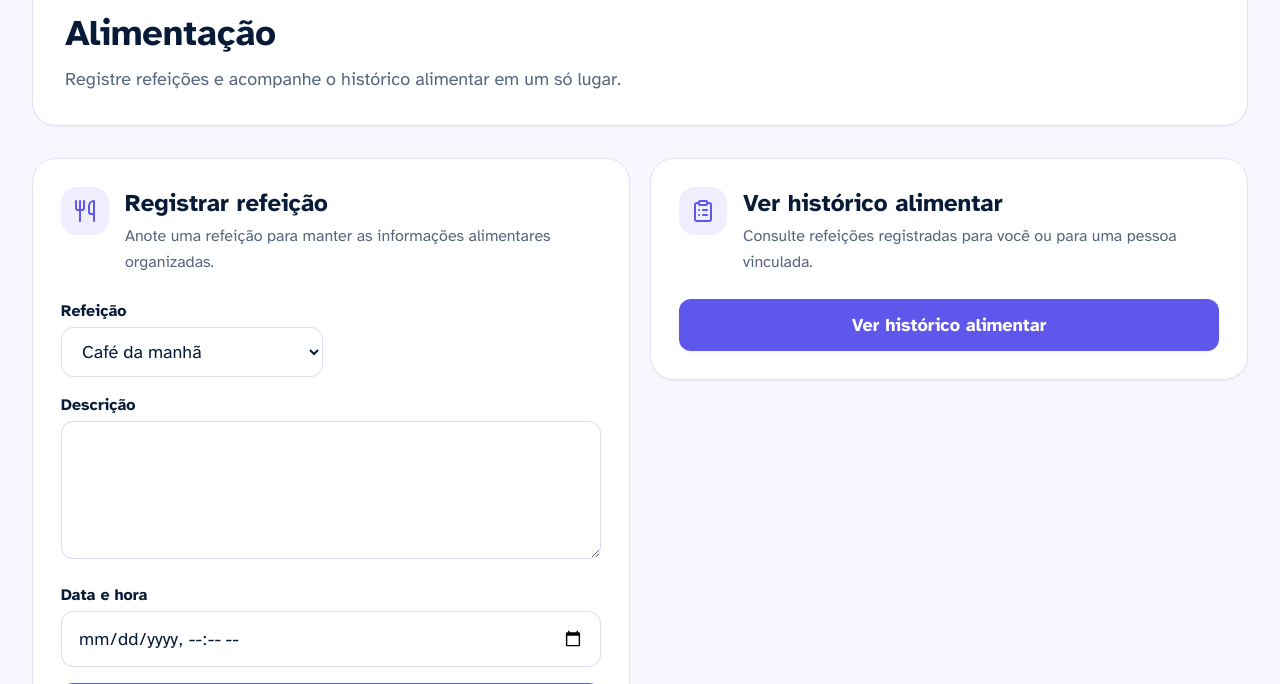
Test: Alimentacao (item 7.1) › perfil idoso (sem seletor): POST /alimentacao, Authorization e Content-Type JSON, corpo exato com data via toISOString
The width and height of the screenshot is (1280, 684).
Type "descricao-falsa-sigilosa" into the text box labelled "Descrição" at (331, 490), box 61,421 -> 601,559
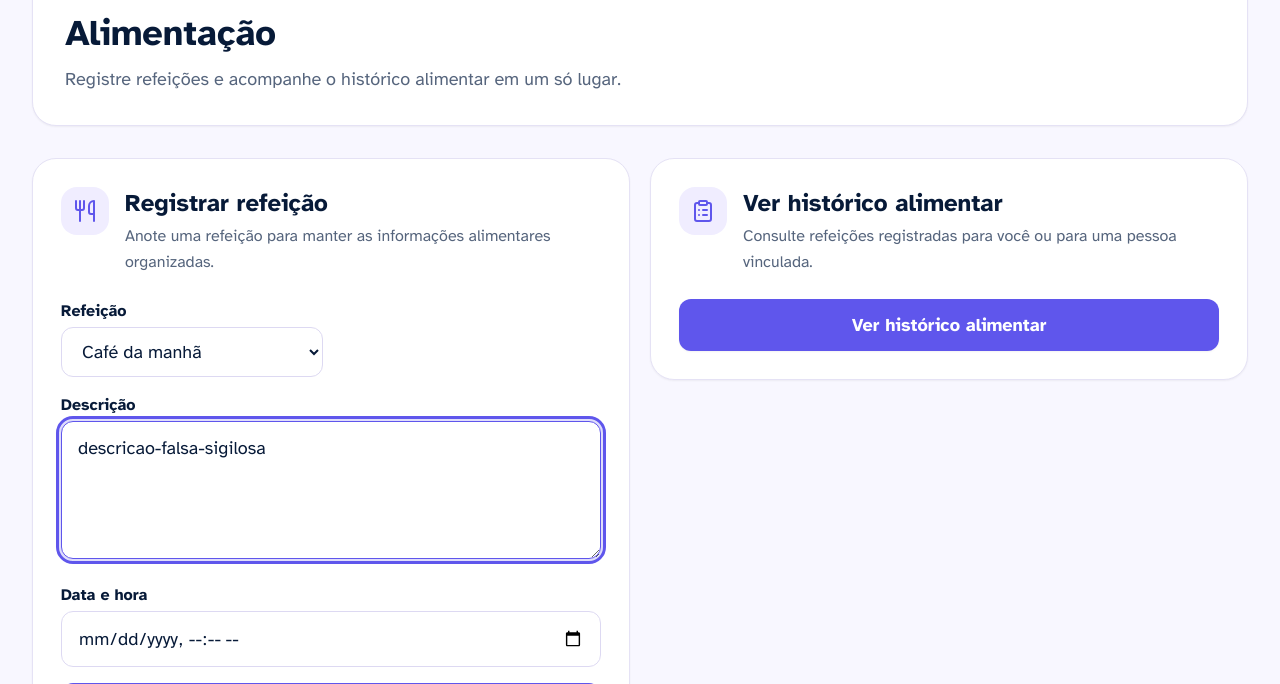
Type "2026-10-10T12:30" into the field labelled "Data e hora" at (331, 639), box 61,611 -> 601,667
(page scrolled)
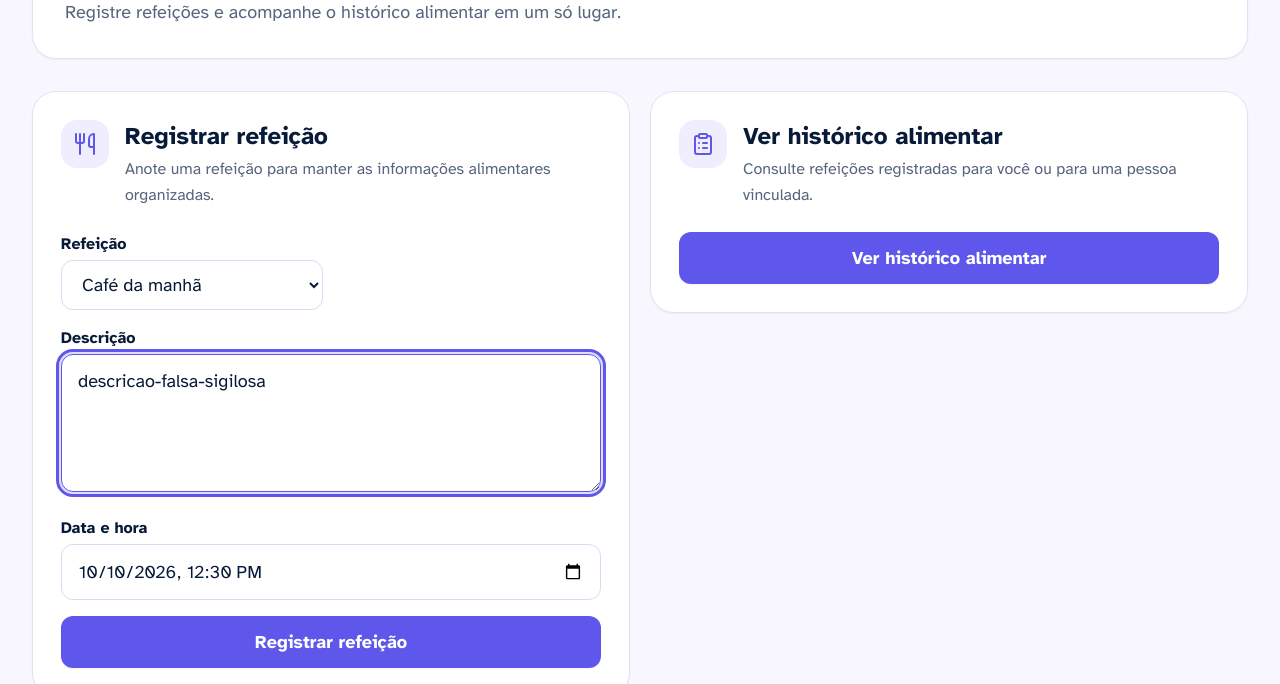
Click the button "Registrar refeição" at (331, 642), box 61,616 -> 601,668
(page scrolled)
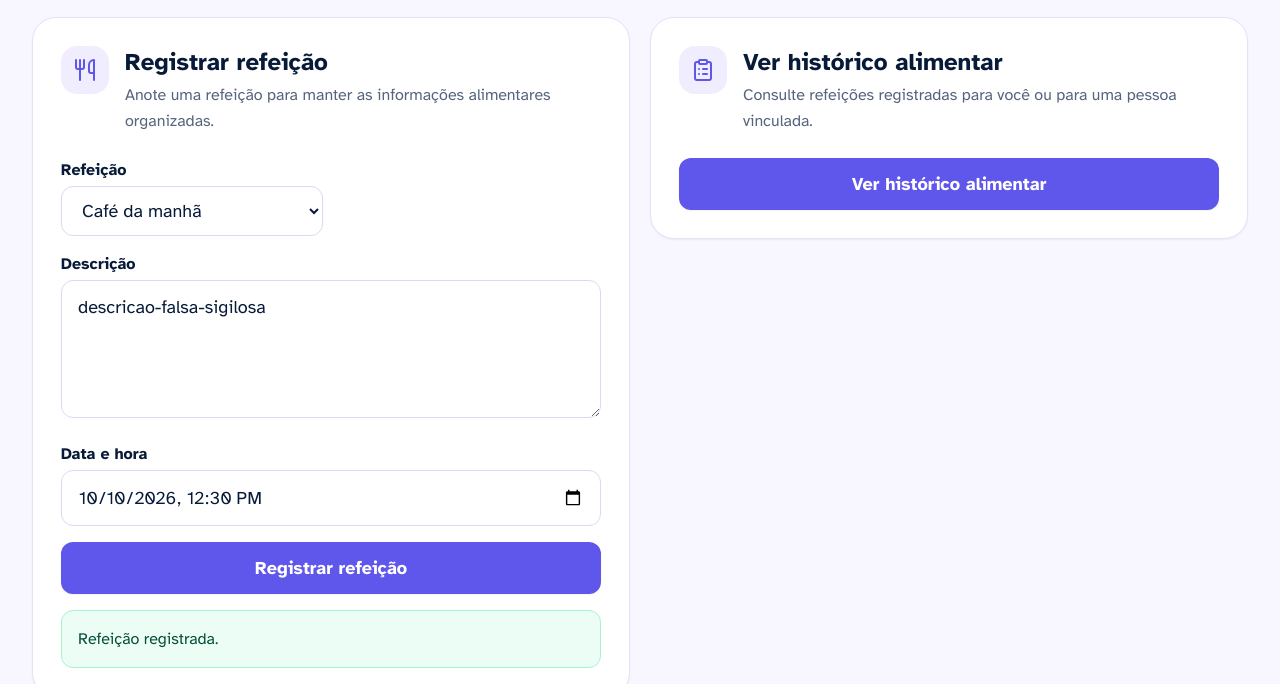
expect the message "Refeição registrada." is shown: met, box 61,610 -> 601,668
